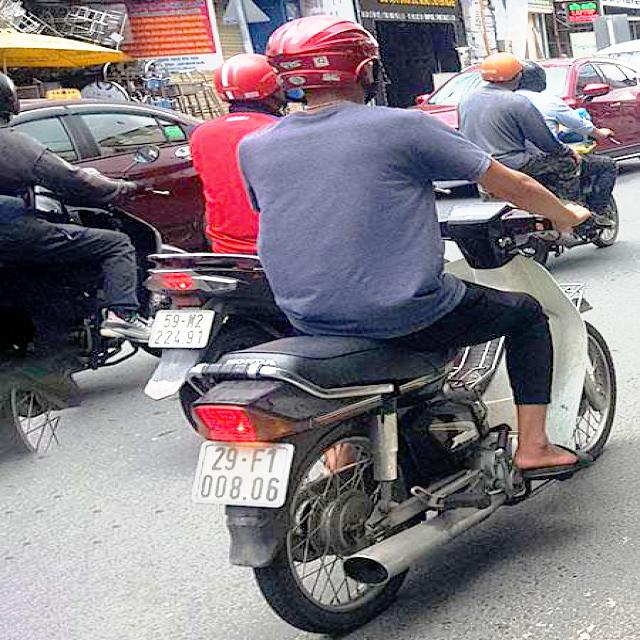license_plate: (193, 442, 291, 508), (149, 310, 217, 348)
